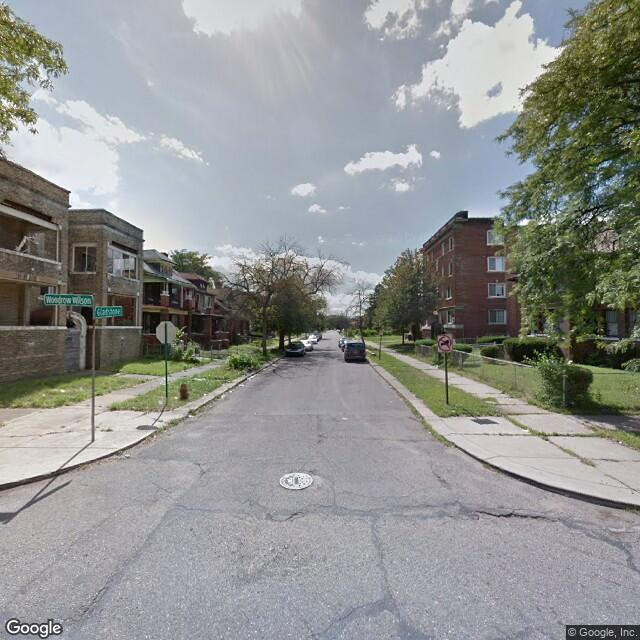litter: (238, 381, 246, 388), (220, 392, 226, 400), (523, 428, 535, 432), (228, 388, 234, 394), (58, 387, 64, 393), (187, 413, 195, 417), (173, 395, 179, 400), (618, 441, 624, 444), (203, 392, 207, 396), (42, 392, 46, 396)
